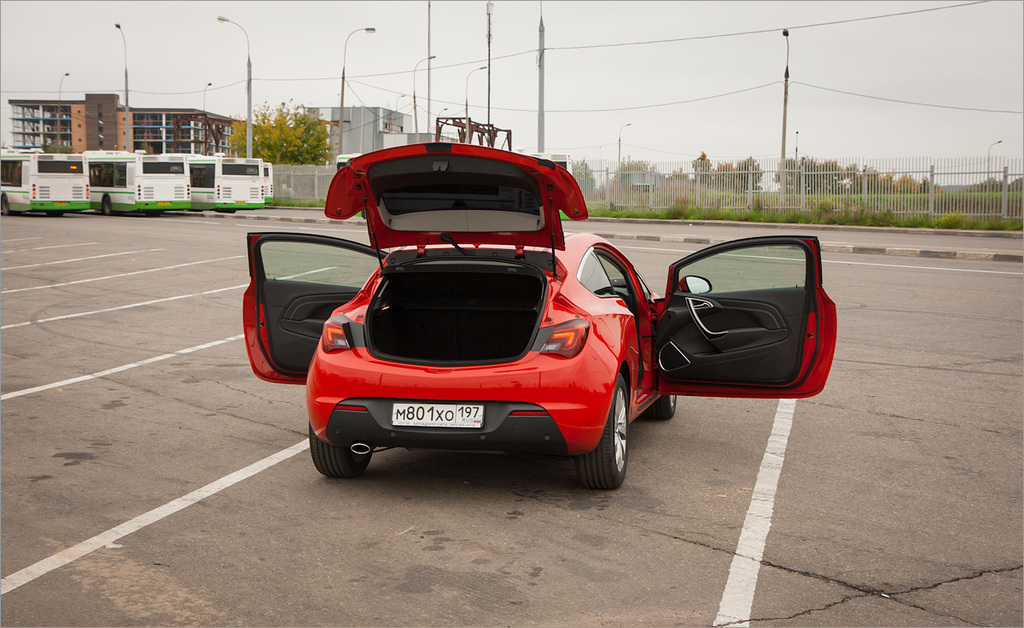Car: (241, 139, 837, 488)
